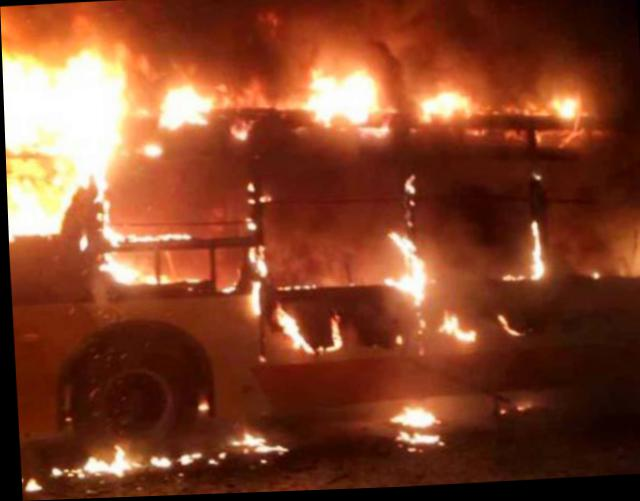fire: (2, 30, 611, 479)
